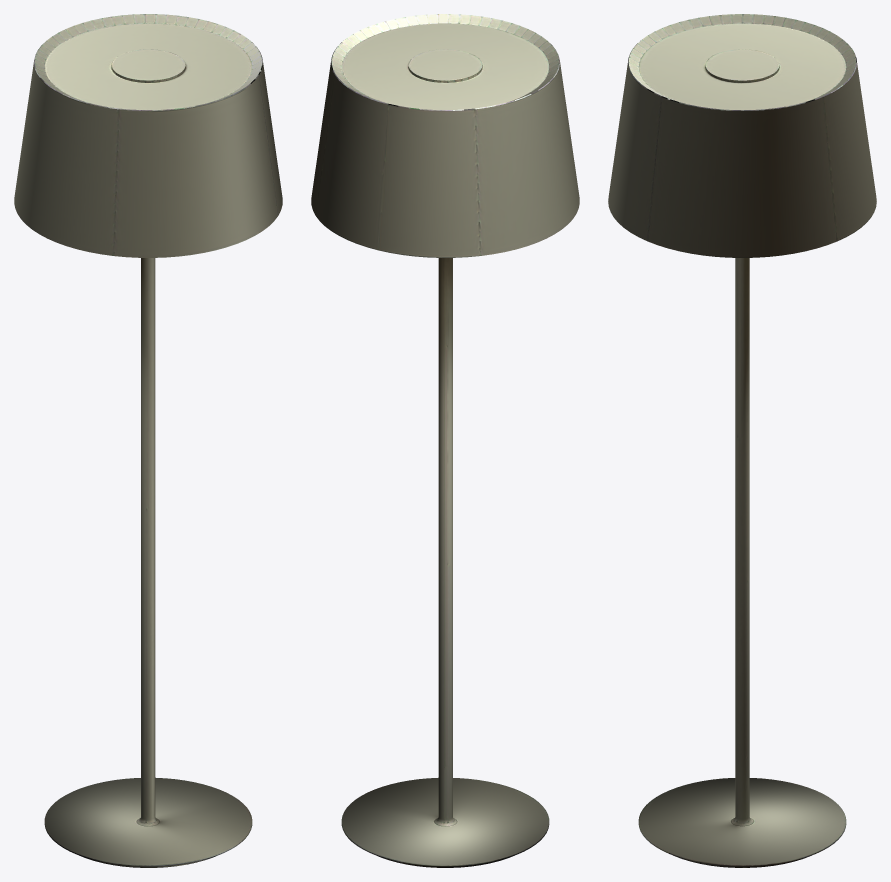
The model's file is Lampada_1.glb.
3 views of the same model, side by side, from view 1: azimuth 30°, elevation 25°; view 2: azimuth 150°, elevation 25°; view 3: azimuth 270°, elevation 25° (orthographic).
Visible parts, largest first — view 1: 4905; view 2: 4905; view 3: 4905.
Part boxes in pixels (x1,y1,x2,y2): 4905: [14, 14, 282, 867]; 4905: [311, 14, 579, 867]; 4905: [608, 14, 876, 867].
Bounding box in the file's own units: 0.42 × 1.32 × 0.42.
Materials: 1 (1 with a texture image).
